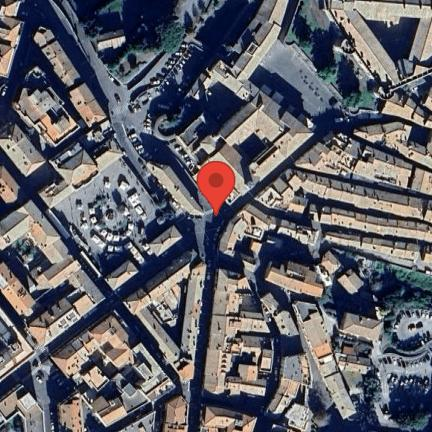area_open: (62, 169, 163, 265), (129, 35, 218, 134), (376, 310, 432, 426), (181, 87, 244, 133), (363, 16, 418, 66), (25, 359, 74, 407), (28, 285, 70, 323), (172, 0, 223, 31), (160, 291, 187, 349), (337, 285, 376, 318), (268, 240, 314, 264), (317, 404, 344, 432), (83, 354, 114, 376), (409, 76, 430, 100), (242, 295, 258, 311)
built: (173, 0, 317, 210), (0, 197, 107, 350), (125, 251, 206, 382), (326, 0, 431, 96), (255, 169, 432, 224), (293, 128, 431, 197), (203, 268, 273, 399), (79, 342, 176, 427), (290, 303, 357, 420), (52, 310, 132, 393), (39, 138, 125, 212), (12, 66, 81, 150), (319, 207, 432, 243), (348, 121, 432, 169), (266, 352, 313, 430), (31, 23, 83, 89), (217, 204, 276, 258), (148, 164, 206, 217), (0, 119, 47, 177), (0, 309, 36, 381), (80, 251, 138, 293), (380, 84, 432, 127), (0, 261, 37, 317), (0, 0, 25, 82), (0, 386, 44, 432), (265, 262, 324, 295), (360, 237, 422, 268), (89, 205, 136, 241), (260, 292, 299, 335), (70, 84, 106, 128), (92, 235, 146, 264), (337, 310, 384, 343), (200, 405, 256, 432), (277, 219, 319, 245), (148, 227, 183, 258), (0, 164, 24, 209), (59, 392, 84, 432), (164, 397, 190, 432), (112, 411, 155, 432), (333, 354, 374, 375), (93, 28, 128, 52), (323, 232, 360, 252), (339, 269, 363, 297), (321, 249, 344, 275), (130, 193, 148, 221), (87, 120, 111, 141), (419, 253, 432, 276), (342, 344, 357, 355)
vegetation_high: (106, 16, 190, 71), (370, 258, 432, 327), (351, 379, 381, 432), (394, 403, 431, 430), (318, 285, 336, 320)
vegetation_low: (282, 0, 379, 114), (67, 0, 179, 61), (10, 239, 43, 269)
